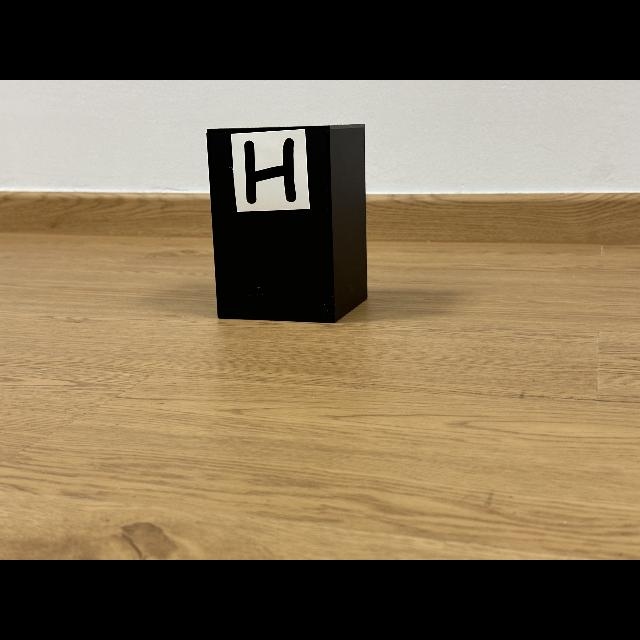H: (244, 138, 296, 204)
